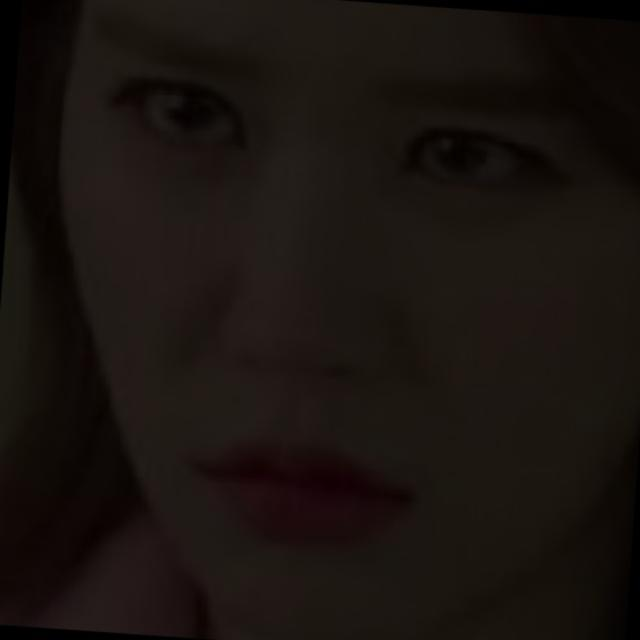Angry: (55, 20, 598, 640)
